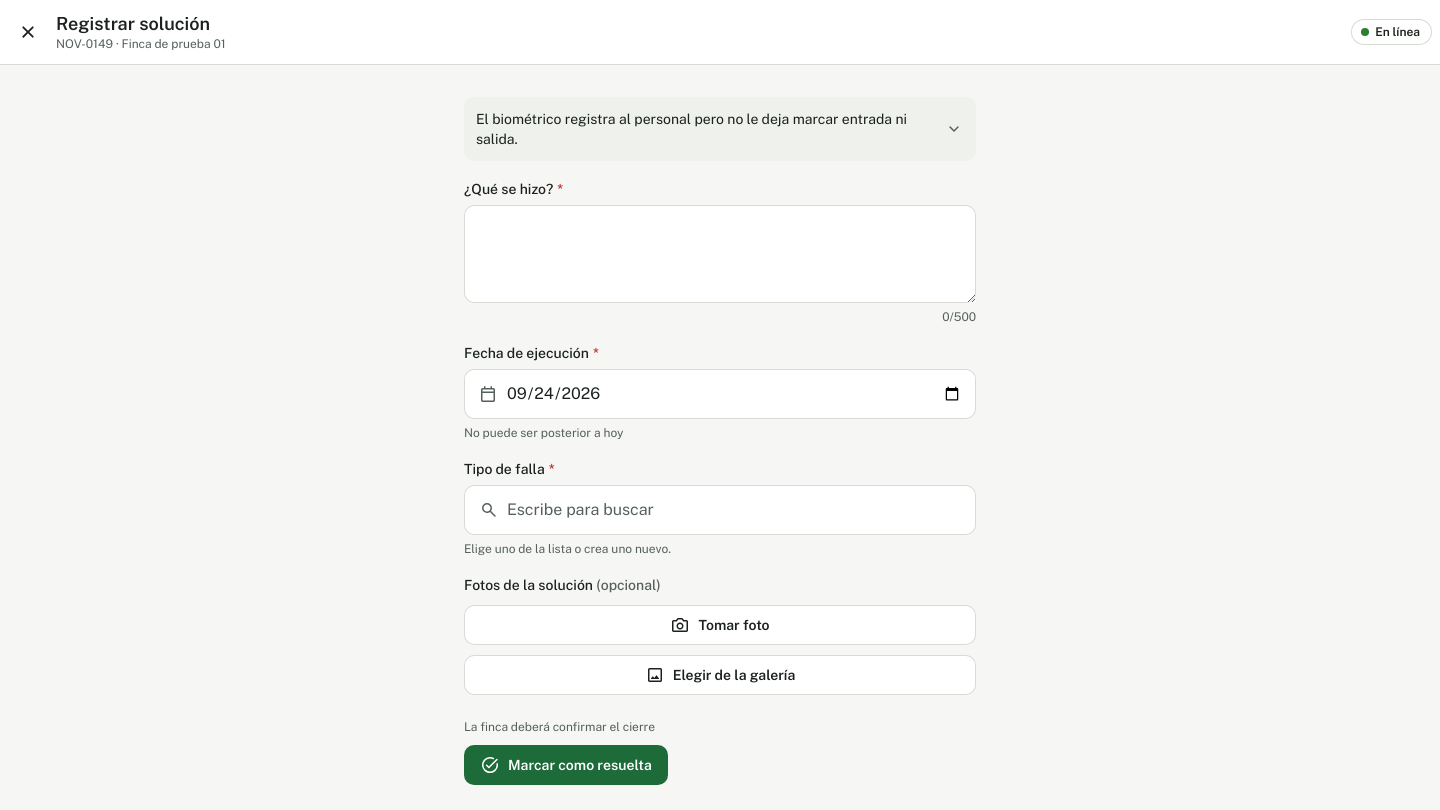
Test: Pantalla 18 · Registrar solución y tipo de falla (RF-14 / CU-14) › la descripción de la novedad va recogida y se puede desplegar
This screenshot has width=1440, height=810.
Click the button "El biométrico registra al personal". click: (720,129)
box: [464,97,976,161]
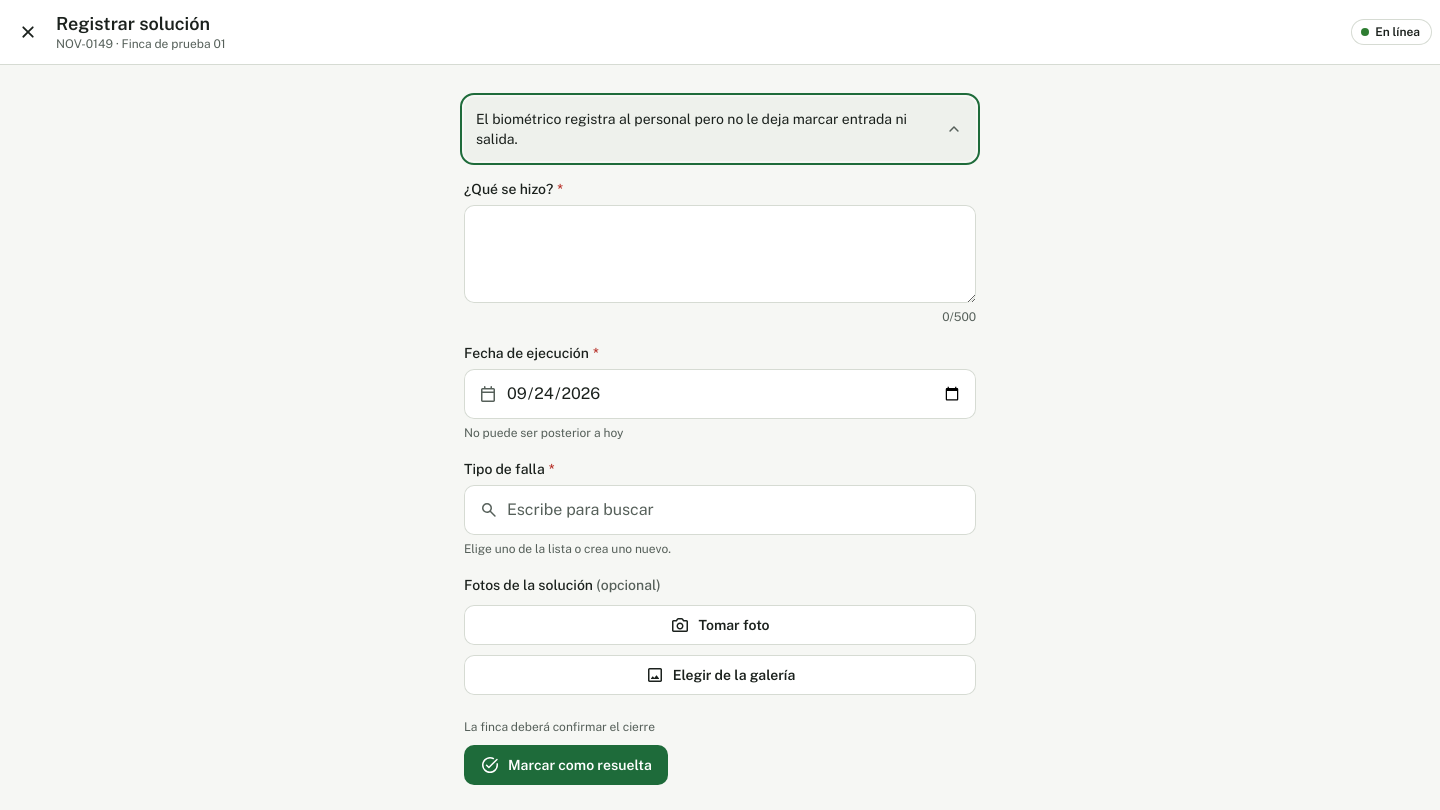
Result: the button "El biométrico registra al personal" is expanded at [464,97,976,161]
